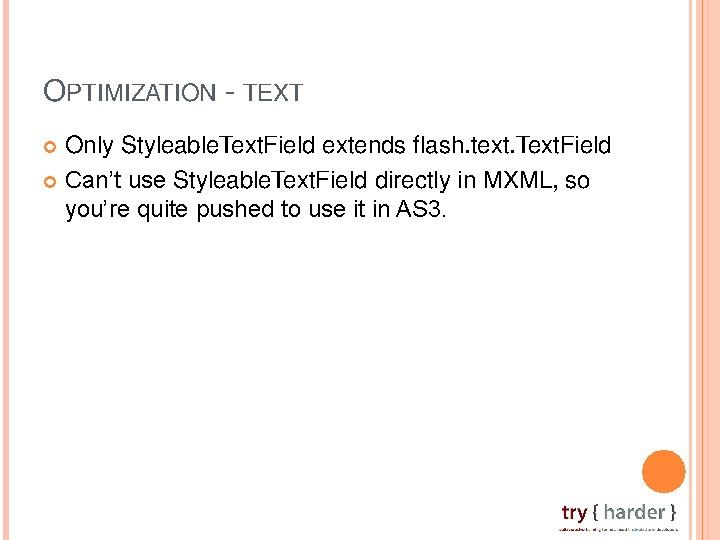paragraph: (43, 123, 629, 240)
title: (37, 72, 312, 115)
